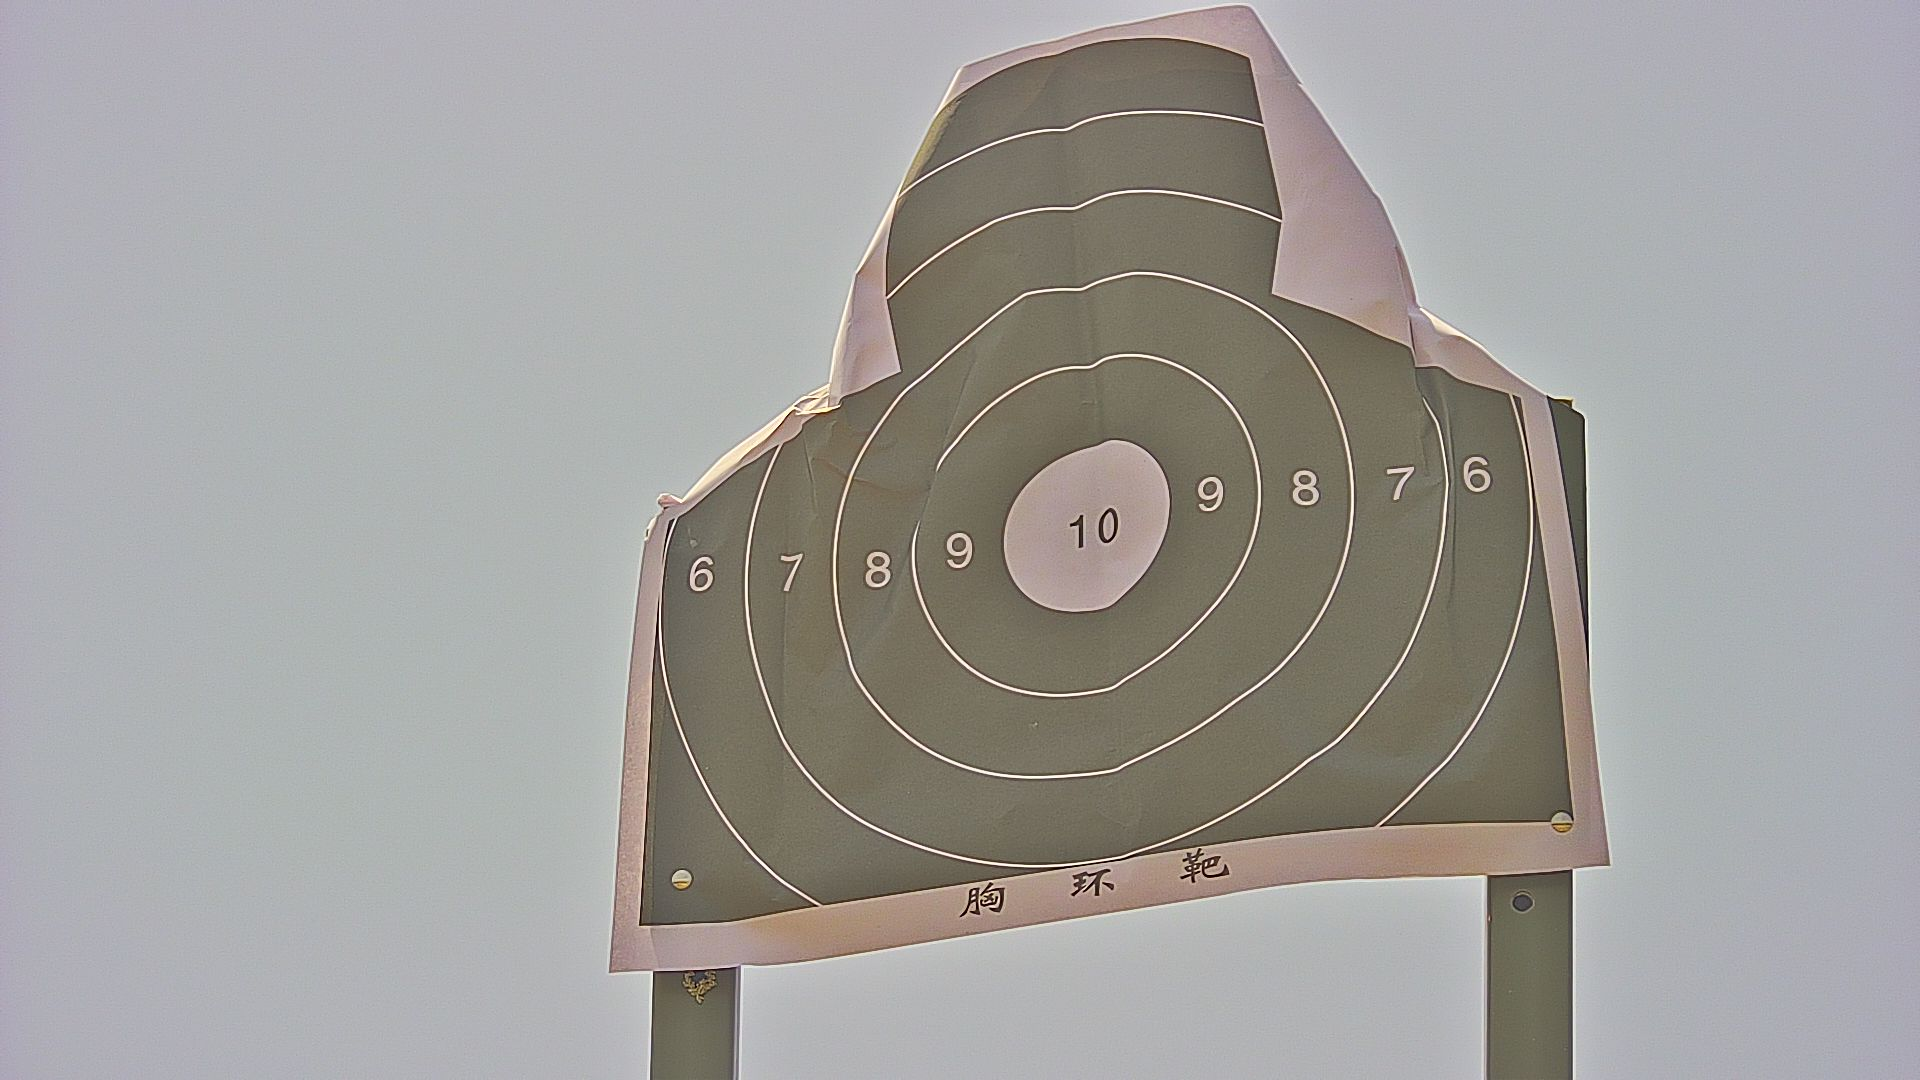target: (637, 37, 1577, 923)
ten: (1002, 440, 1172, 616)
